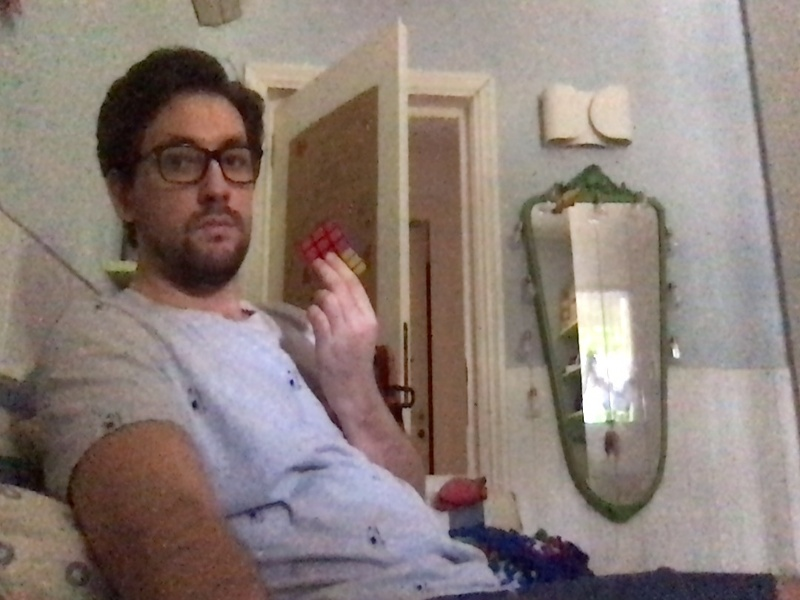rubik: (296, 222, 367, 289)
